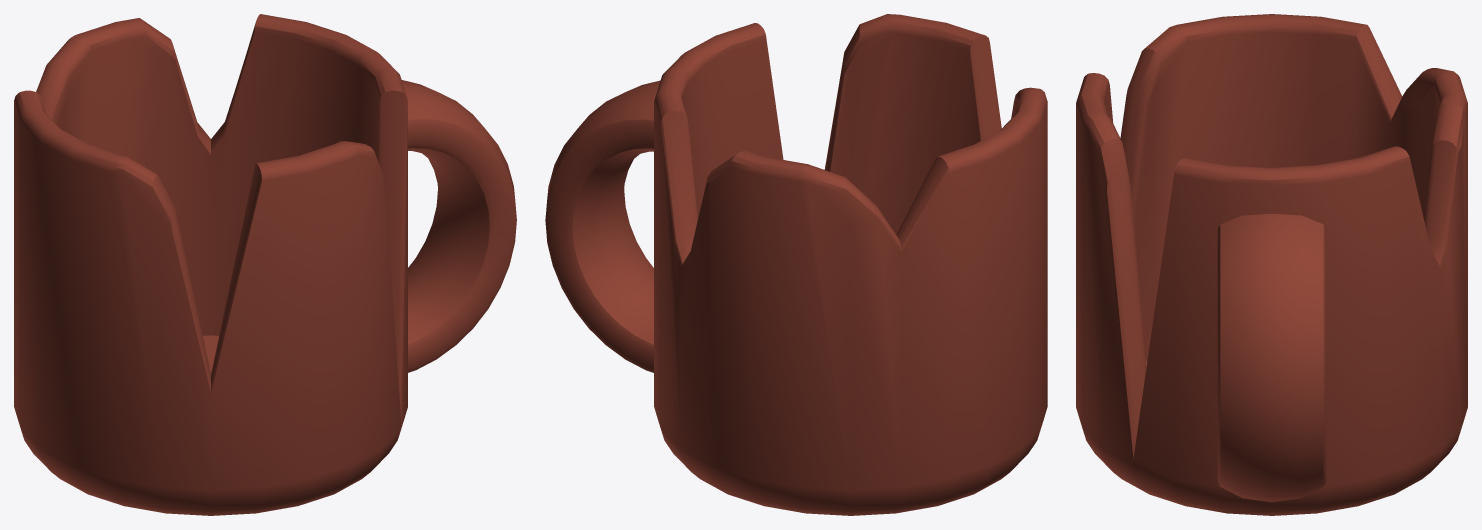
Rendered from Cap.fbx.
3 renders of one model, left to right at view 1: azimuth 30°, elevation 25°; view 2: azimuth 150°, elevation 25°; view 3: azimuth 270°, elevation 25°, orthographic.
Visible parts, largest first — view 1: Cylinder.031; view 2: Cylinder.031; view 3: Cylinder.031.
Boxes of the visible parts, x1,y1,x2,y2 form: Cylinder.031: [14, 14, 516, 515]; Cylinder.031: [545, 14, 1047, 515]; Cylinder.031: [1076, 14, 1467, 515].
Bounding box in the file's own units: 84.93 × 62.44 × 62.44.
